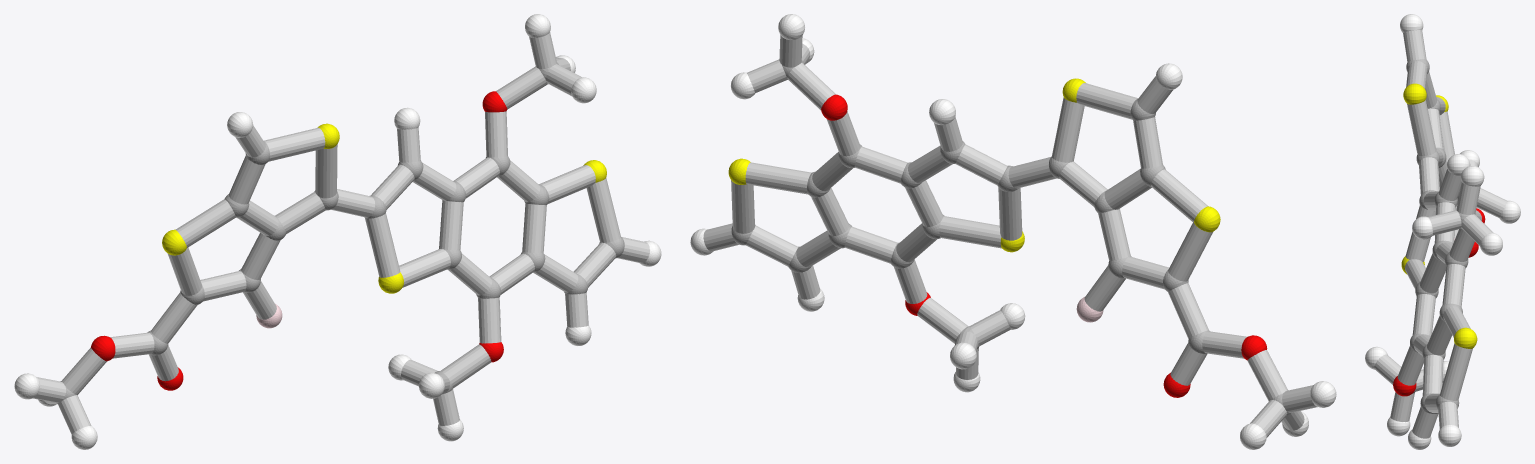
File: color.glb
3 renders of one model, left to right at view 1: azimuth 30°, elevation 25°; view 2: azimuth 150°, elevation 25°; view 3: azimuth 270°, elevation 25°, orthographic. The views are drawn at different scales.
Parts seen in each view (by area): view 1: grp15205, grp8689, grp1, grp7241, grp13395; view 2: grp15205, grp8689, grp1, grp7241, grp13395; view 3: grp15205, grp8689, grp1, grp7241, grp13395.
Part boxes in pixels (box(x1,y1,x2,y2)): grp15205: box(33, 32, 649, 434); grp8689: box(14, 14, 661, 449); grp1: box(56, 62, 624, 403); grp7241: box(162, 123, 606, 293); grp13395: box(91, 91, 507, 390); grp15205: box(703, 35, 1317, 437); grp8689: box(690, 14, 1336, 449); grp1: box(731, 60, 1290, 415); grp7241: box(728, 78, 1220, 252); grp13395: box(821, 94, 1267, 397); grp15205: box(1374, 30, 1507, 438); grp8689: box(1365, 14, 1520, 449); grp1: box(1406, 59, 1475, 413); grp7241: box(1401, 83, 1477, 348); grp13395: box(1393, 208, 1485, 396).
Bounding box in the file's own units: 16.76 × 9.4 × 4.
